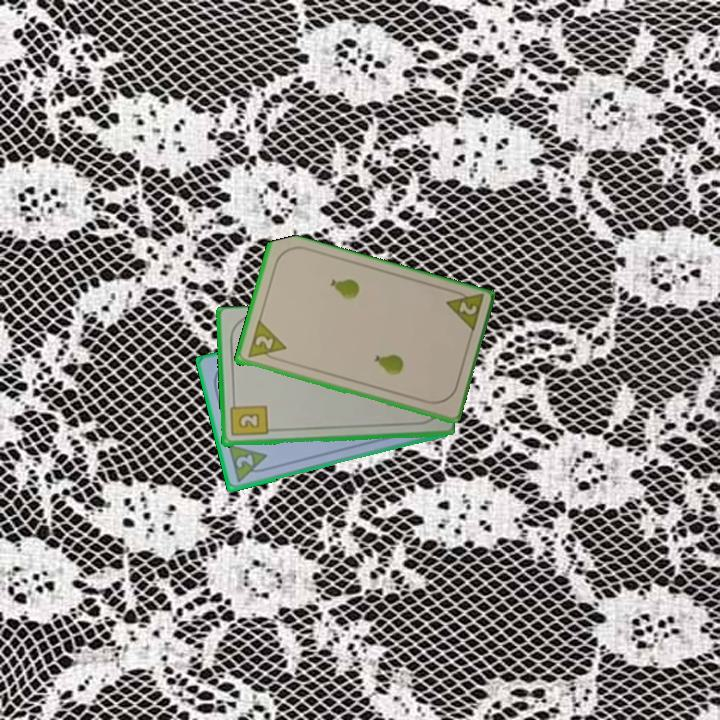2b: (227, 397, 270, 439)
2p: (442, 286, 486, 336), (224, 441, 272, 486), (244, 318, 288, 365)
